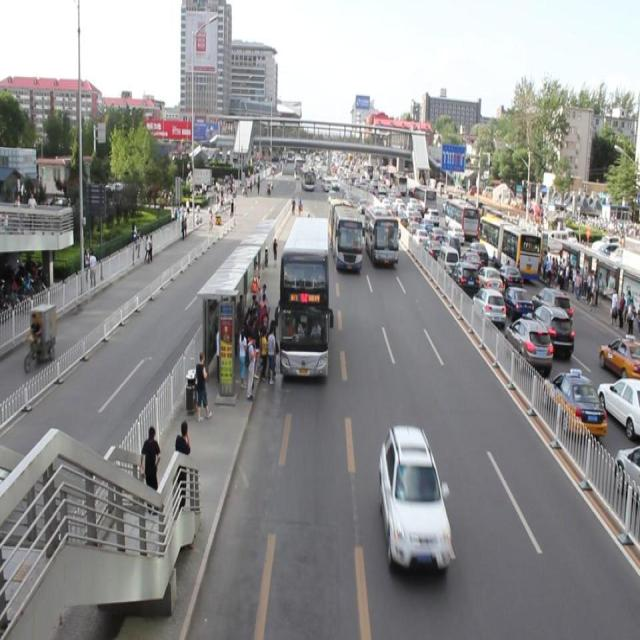car: (377, 422, 449, 574)
van: (280, 215, 327, 380), (329, 200, 362, 270), (364, 206, 397, 266)
